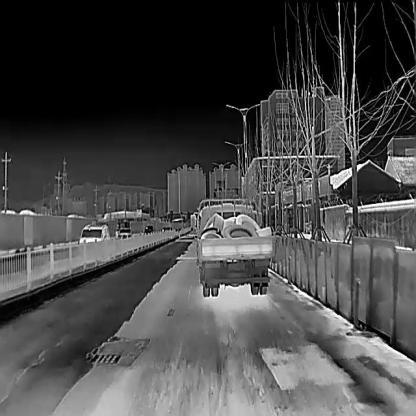car: (196, 198, 274, 297), (79, 223, 109, 247), (117, 228, 132, 241)
